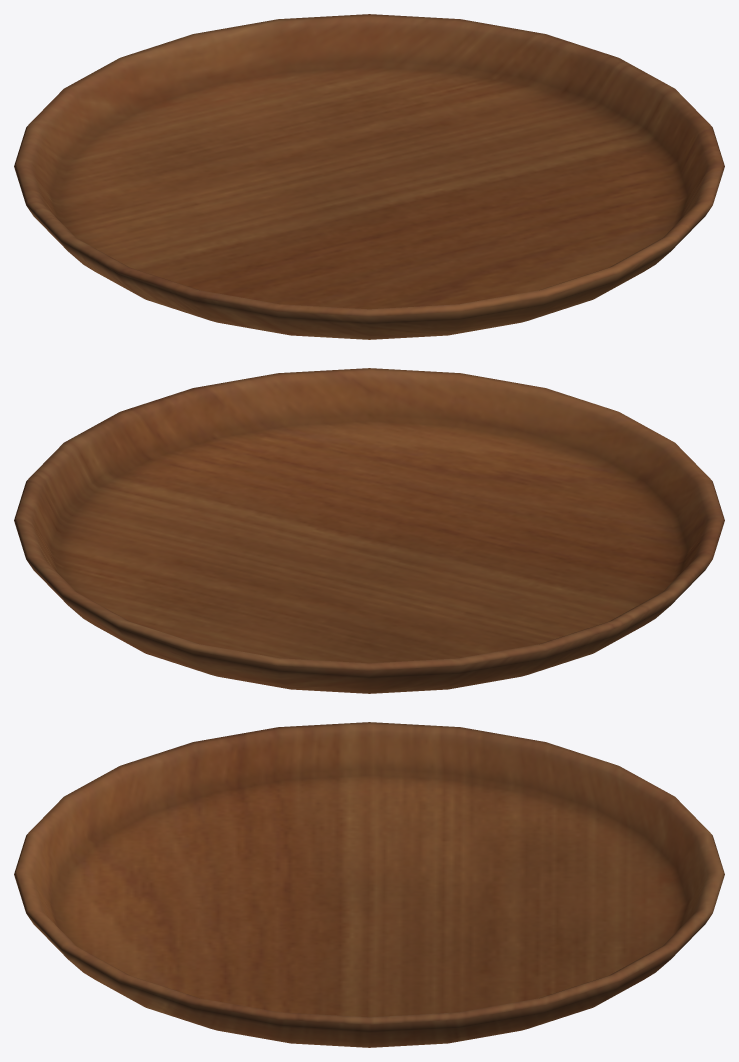
File: GardenTableWear01_11.FBX
3 views of the same model, one above another, from view 1: azimuth 30°, elevation 25°; view 2: azimuth 150°, elevation 25°; view 3: azimuth 270°, elevation 25° (orthographic).
Parts seen in each view (by area): view 1: GardenTableWear01_11; view 2: GardenTableWear01_11; view 3: GardenTableWear01_11.
Part boxes in pixels (box(x1,y1,x2,y2)): GardenTableWear01_11: box(14, 14, 724, 339); GardenTableWear01_11: box(14, 368, 724, 693); GardenTableWear01_11: box(14, 722, 724, 1047).
Size of what is drawn, in the model's own units: 0.4033 by 0.0314 by 0.4033.
